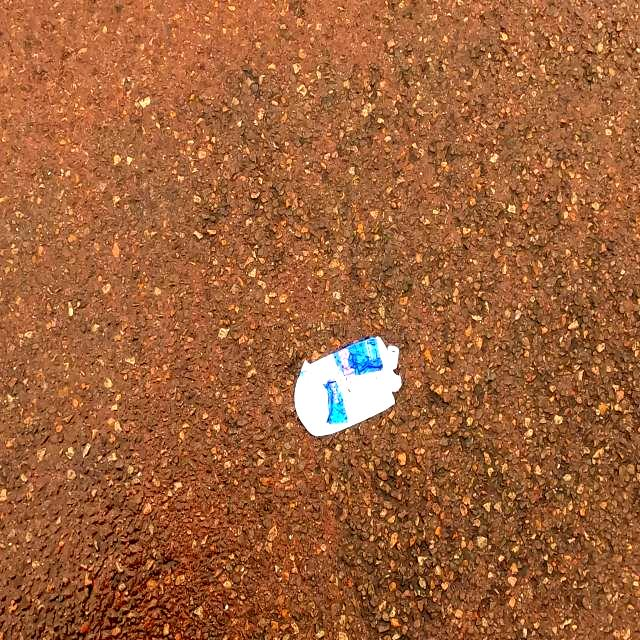Metal: (284, 338, 408, 442), (236, 200, 348, 306)
